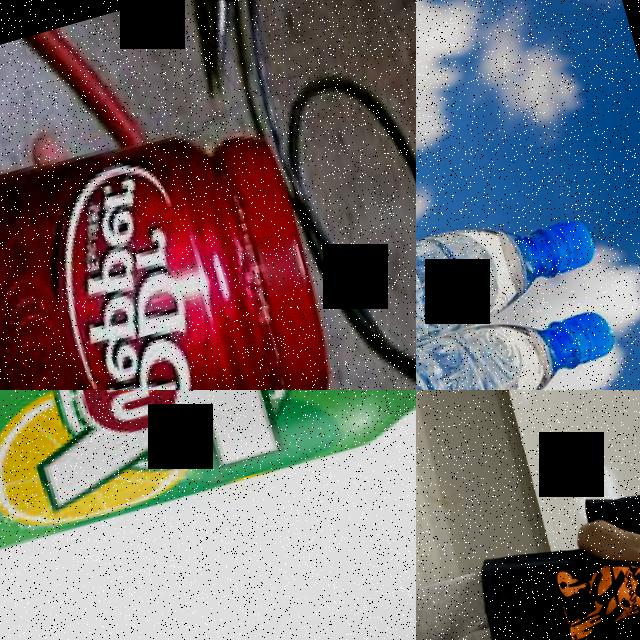bottle: (416, 192, 608, 390), (416, 289, 634, 390)
can: (0, 86, 350, 390), (0, 390, 416, 584)
